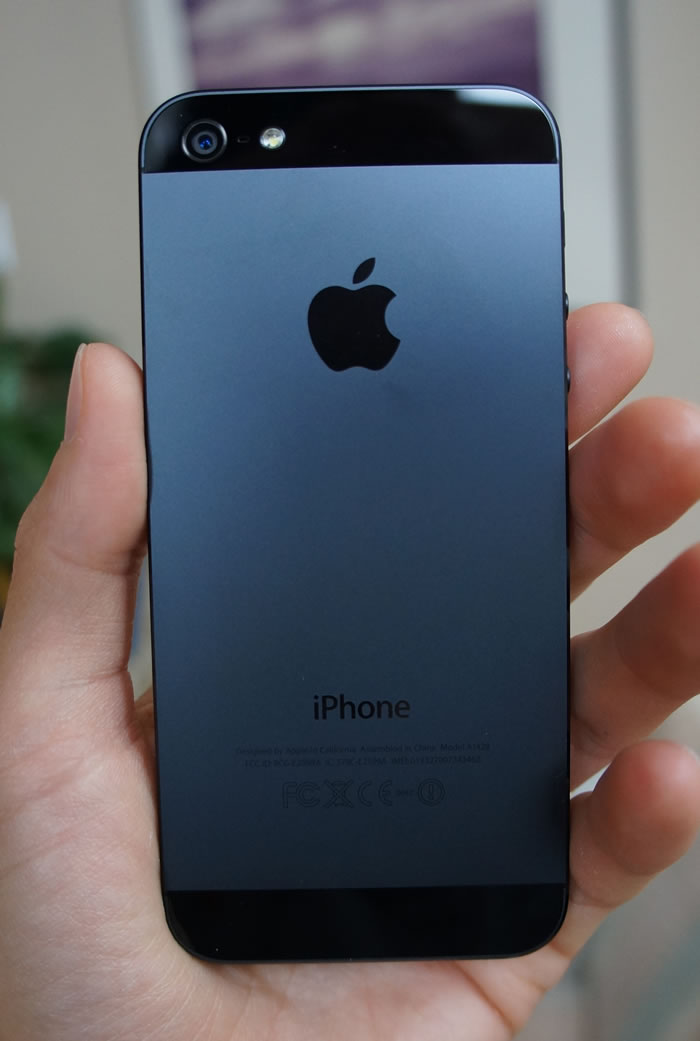apple: (279, 242, 467, 422)
